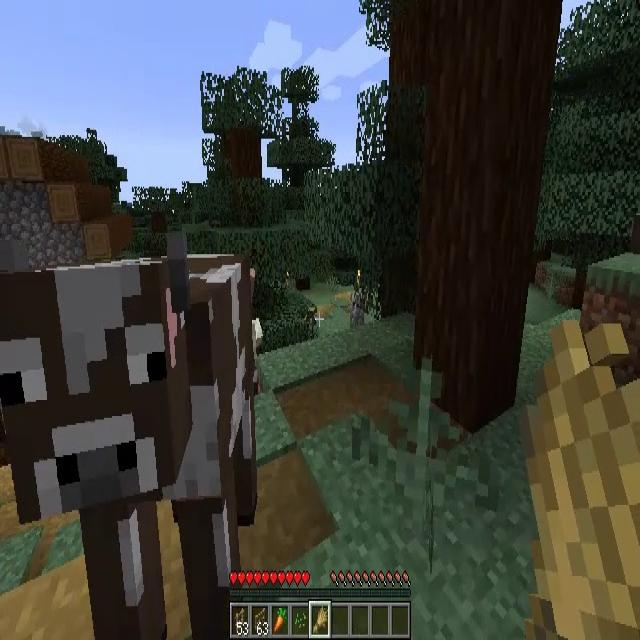cow: (3, 253, 252, 640)
